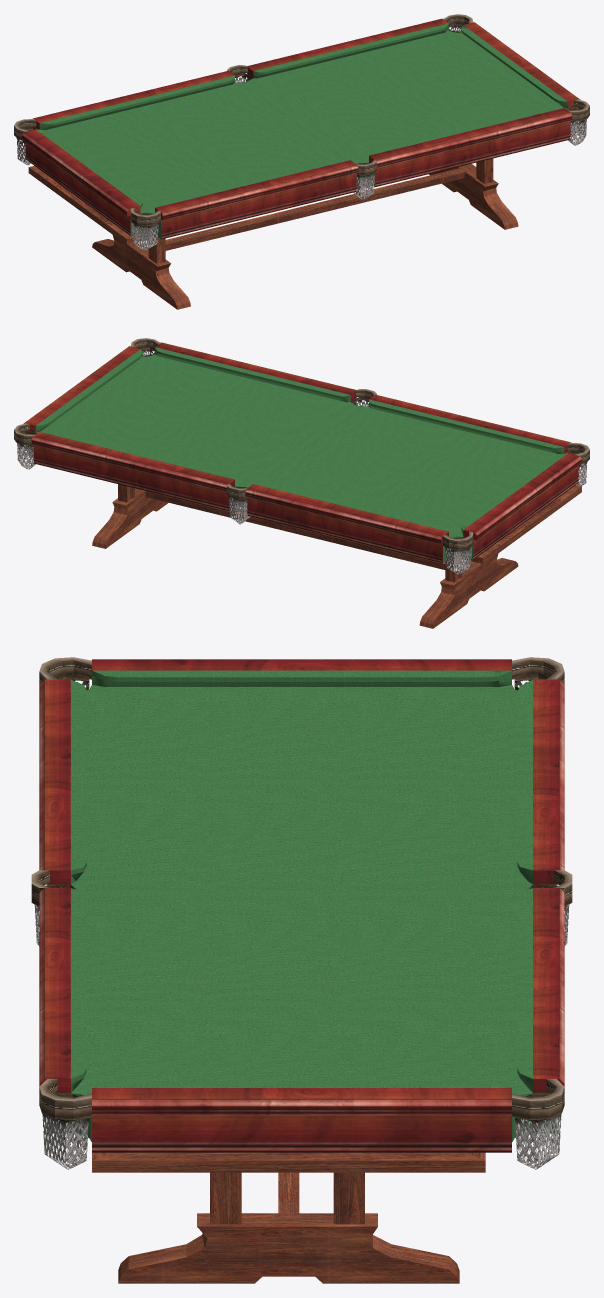
Rendered from BillarTable.fbx.
The picture shows the model from 3 angles, top to bottom: view 1: azimuth 30°, elevation 25°; view 2: azimuth 150°, elevation 25°; view 3: azimuth 270°, elevation 25°; orthographic projection. The views are drawn at different scales.
Visible parts, largest first — view 1: PROP_Furniture_Pool Table.004, PROP_Furniture_Pool Table.003, PROP_Furniture_Pool Table, PROP_Furniture_Pool Table.005, PROP_Furniture_Pool Table.001; view 2: PROP_Furniture_Pool Table.004, PROP_Furniture_Pool Table.003, PROP_Furniture_Pool Table, PROP_Furniture_Pool Table.005, PROP_Furniture_Pool Table.001; view 3: PROP_Furniture_Pool Table.004, PROP_Furniture_Pool Table.003, PROP_Furniture_Pool Table, PROP_Furniture_Pool Table.005, PROP_Furniture_Pool Table.001.
Boxes of the visible parts, box(x1,y1,x2,y2) form: PROP_Furniture_Pool Table.004: box(43, 30, 567, 213); PROP_Furniture_Pool Table.003: box(22, 18, 580, 239); PROP_Furniture_Pool Table: box(28, 127, 580, 309); PROP_Furniture_Pool Table.005: box(36, 23, 568, 208); PROP_Furniture_Pool Table.001: box(14, 14, 589, 250); PROP_Furniture_Pool Table.004: box(36, 354, 559, 537); PROP_Furniture_Pool Table.003: box(23, 342, 581, 563); PROP_Furniture_Pool Table: box(29, 453, 581, 628); PROP_Furniture_Pool Table.005: box(35, 347, 567, 536); PROP_Furniture_Pool Table.001: box(14, 338, 589, 574); PROP_Furniture_Pool Table.004: box(71, 685, 532, 1095); PROP_Furniture_Pool Table.003: box(39, 659, 564, 1152); PROP_Furniture_Pool Table: box(92, 1152, 485, 1283); PROP_Furniture_Pool Table.005: box(71, 670, 532, 1092); PROP_Furniture_Pool Table.001: box(31, 657, 572, 1169).
Bounding box in the file's own units: 400 × 100 × 206.
